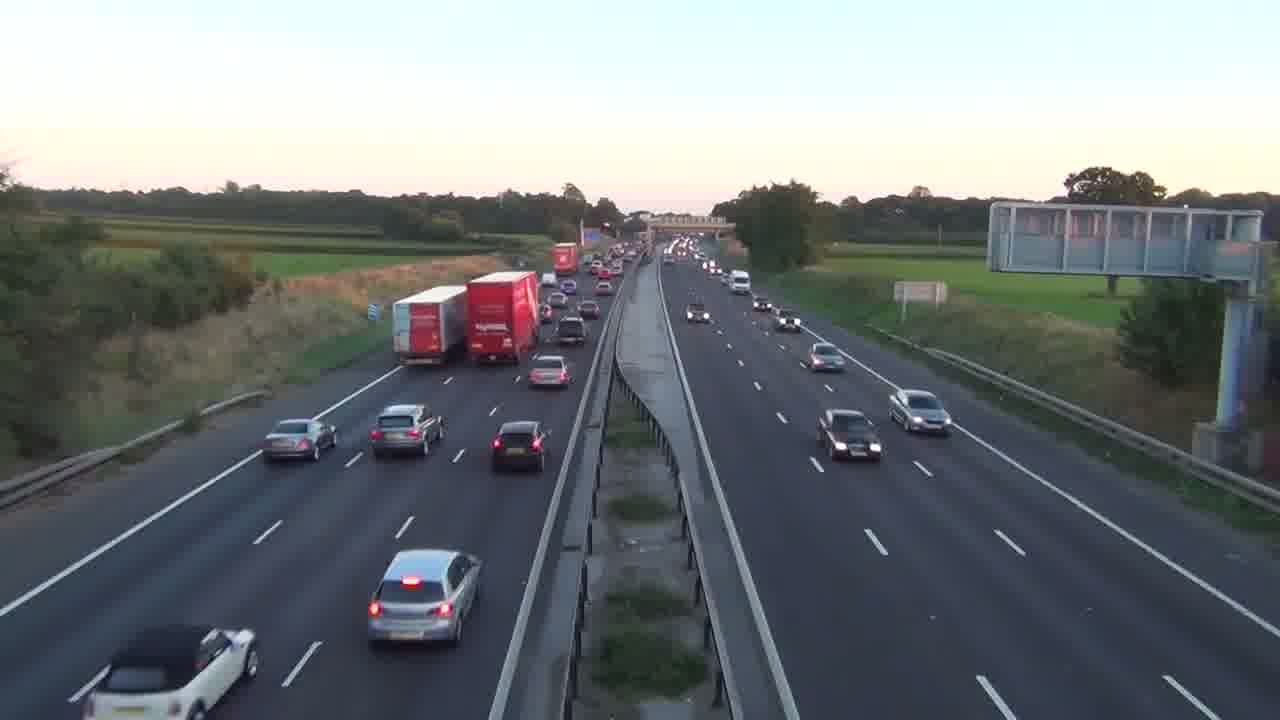car: (66, 622, 260, 718), (366, 547, 485, 648), (368, 402, 445, 458), (817, 407, 885, 463), (817, 407, 884, 463), (260, 417, 337, 462), (261, 417, 335, 463), (490, 419, 549, 473), (888, 388, 951, 436), (528, 353, 573, 389), (804, 343, 847, 373)
truck: (466, 270, 539, 364), (391, 283, 467, 366)
